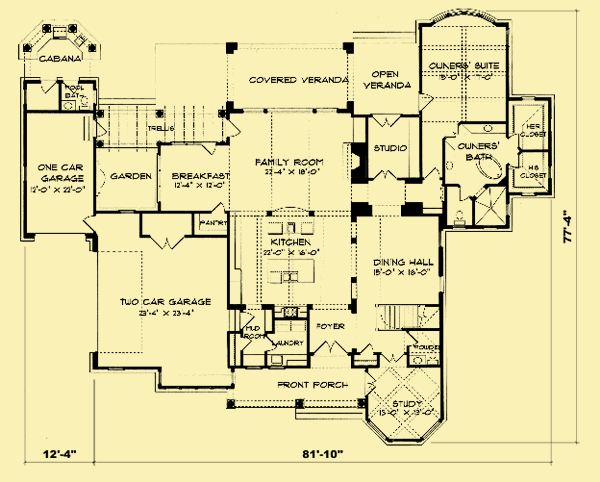laundry room has washer and dryer: (266, 319, 311, 368)
small bathroom has a small sink and large sink: (58, 76, 100, 113)
small bathroom has sink and large sink: (407, 326, 442, 367)
the kitchen has a counter with sink and cooking range: (229, 203, 357, 312)
this bathroom has a large tub, closets , shower space and multiple sinks: (441, 96, 558, 233)
